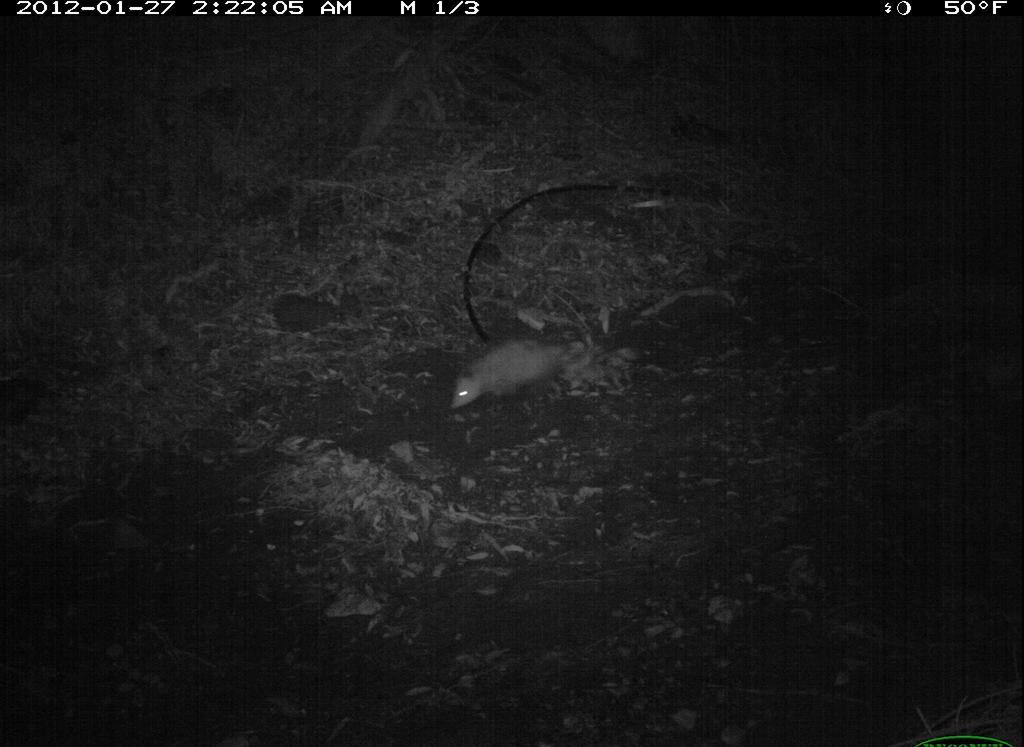opossum: (440, 319, 642, 424)
